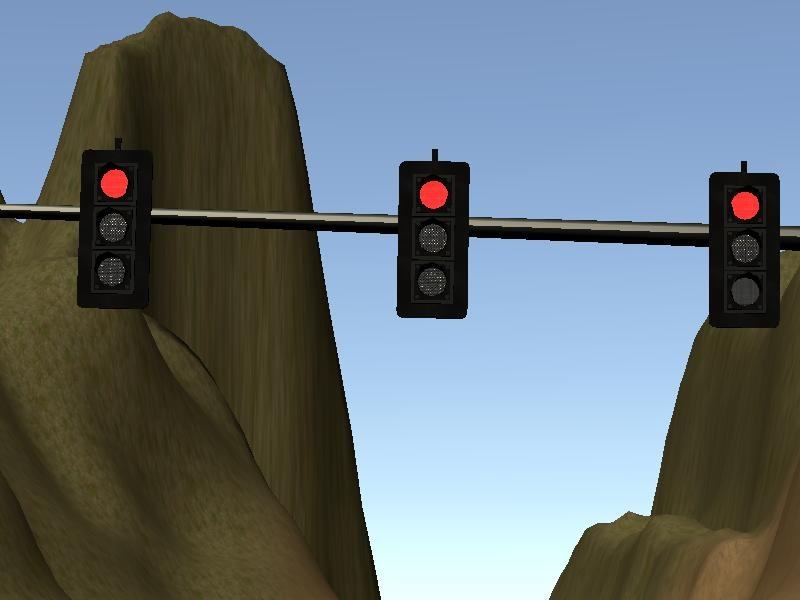red: (80, 150, 151, 309), (707, 174, 778, 330), (398, 163, 468, 319)
